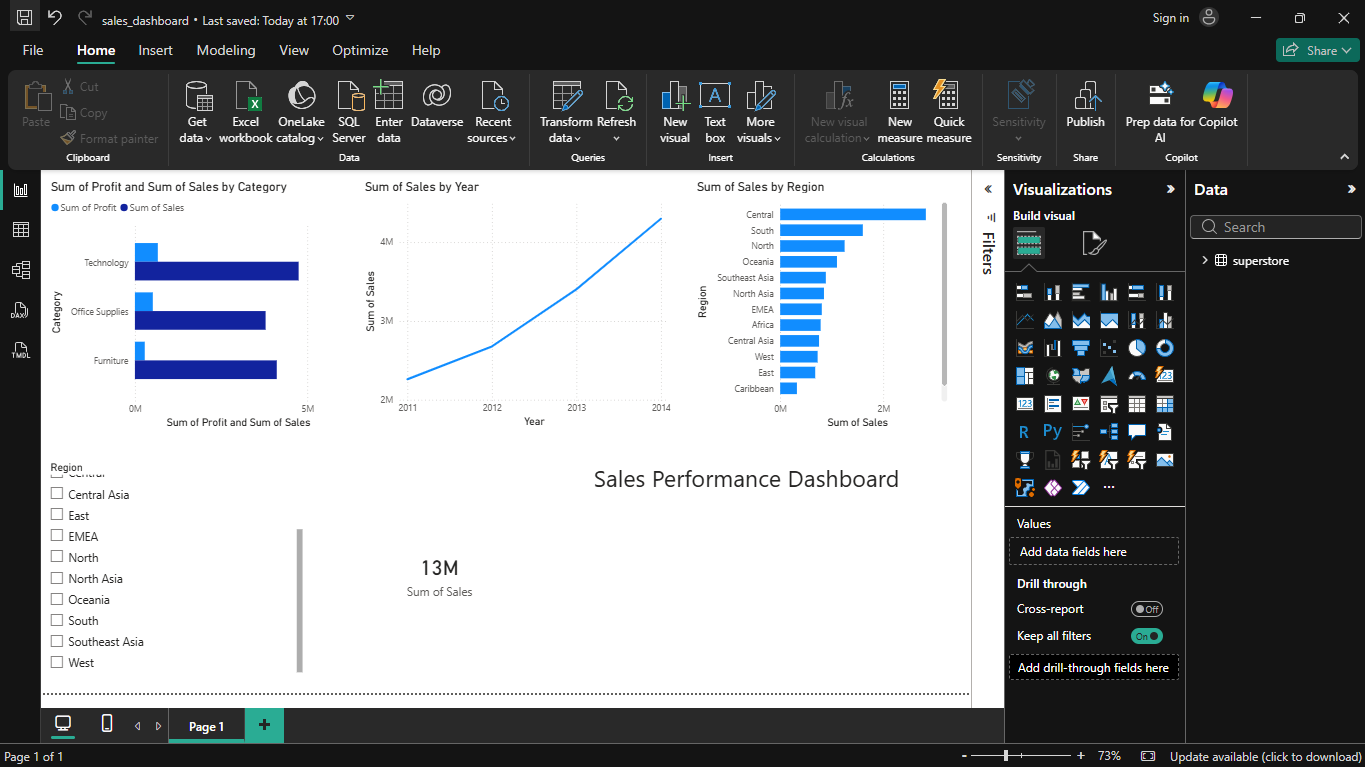

What the dashboard file says about the page in this screenshot:
{"tool":"powerbi","page":{"name":"Page 1","canvas":[1280,720],"ordinal":0},"visuals":[{"type":"card","fields":{"Values":["Sum(superstore.Sales)"]},"box":[364.5,403.1,354.4,287.2],"z":0},{"type":"clusteredBarChart","fields":{"Y":["Sum(superstore.Profit)","Sum(superstore.Sales)"],"Category":["superstore.Category"]},"box":[8.4,11.8,419.9,347.7],"z":1000},{"type":"clusteredBarChart","fields":{"Category":["superstore.Region"],"Y":["Sum(superstore.Sales)"]},"box":[897,117.6,356.1,203.3],"z":2000},{"type":"lineChart","fields":{"Category":["superstore.Order.Date.Variation.Date Hierarchy.Year","superstore.Order.Date.Variation.Date Hierarchy.Month","superstore.Order.Date.Variation.Date Hierarchy.Day"],"Y":["Sum(superstore.Sales)"]},"box":[440.1,79,431.7,280.5],"z":3000},{"type":"slicer","fields":{"Values":["superstore.Region"]},"box":[0,396.4,364.5,300.7],"z":4000},{"type":"textbox","box":[755.9,396.4,497.2,287.2],"z":4001}]}

Visuals, with their boxes on the page's 1280x720 design canvas (x1, y1, x2, y2). These are canvas units, not pixel positions in the 1365x767 screenshot, which may show the page scaled, cropped or inside an application window:
card - Sum(superstore.Sales): locate(364, 403, 719, 690)
clusteredBarChart - Sum(superstore.Profit) x Sum(superstore.Sales): locate(8, 12, 428, 360)
clusteredBarChart - superstore.Region x Sum(superstore.Sales): locate(897, 118, 1253, 321)
lineChart - superstore.Order.Date.Variation.Date Hierarchy.Year x superstore.Order.Date.Variation.Date Hierarchy.Month: locate(440, 79, 872, 360)
slicer - superstore.Region: locate(0, 396, 364, 697)
textbox: locate(756, 396, 1253, 684)
